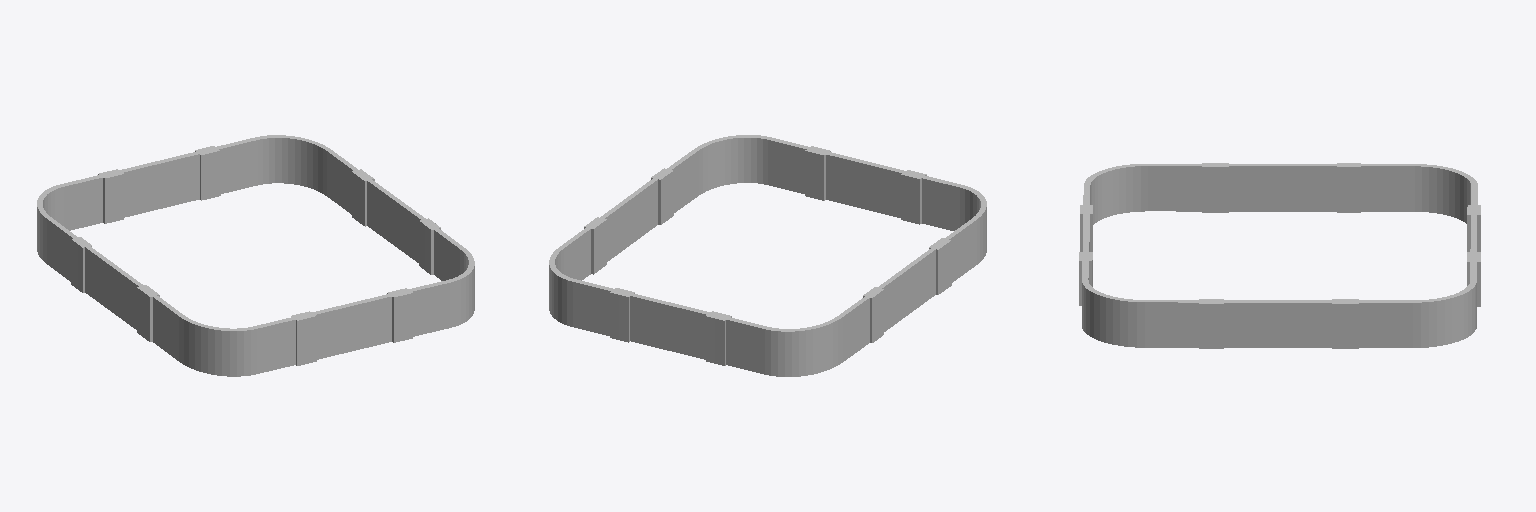
Rendered from tanca.obj.
3 renders of one model, left to right at view 1: azimuth 30°, elevation 25°; view 2: azimuth 150°, elevation 25°; view 3: azimuth 270°, elevation 25°, orthographic.
Visible parts, largest first — view 1: paret2.002_paret2.003; view 2: paret2.002_paret2.003; view 3: paret2.002_paret2.003.
Boxes of the visible parts, box(x1,y1,x2,y2) form: paret2.002_paret2.003: box(37, 135, 474, 376); paret2.002_paret2.003: box(549, 135, 986, 376); paret2.002_paret2.003: box(1079, 163, 1480, 348).
Size of the model in its own units: 16 by 2.4 by 19.23.